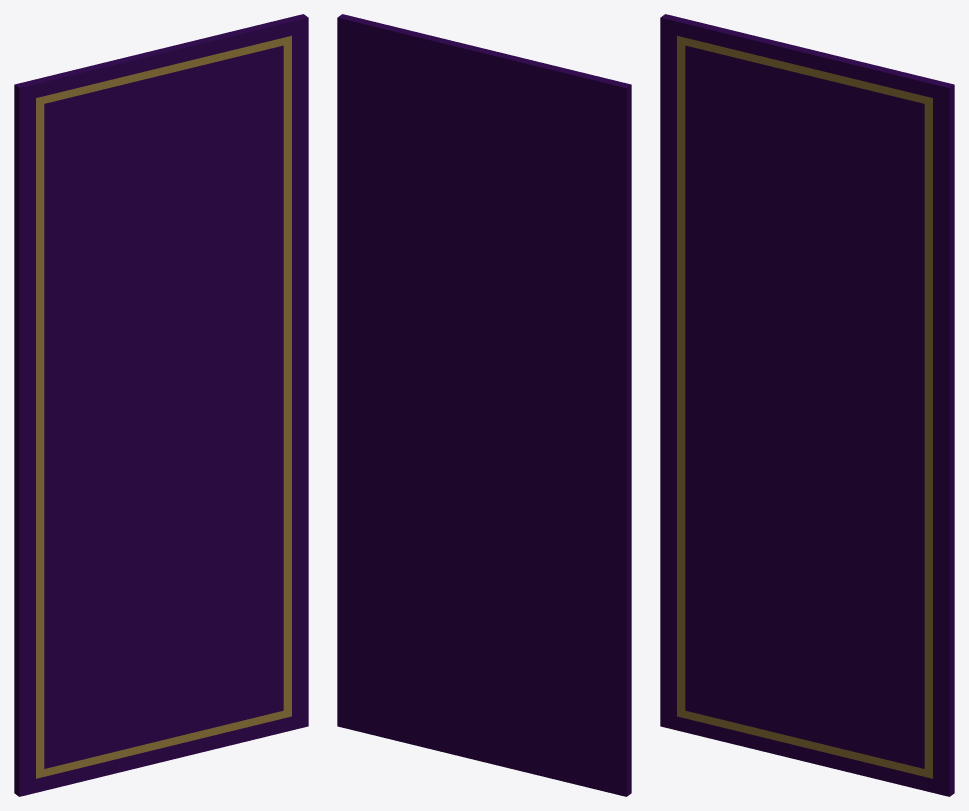
Rendered from tapestry.fbx.
The picture shows the model from 3 angles, left to right: view 1: azimuth 30°, elevation 25°; view 2: azimuth 150°, elevation 25°; view 3: azimuth 330°, elevation 25°; orthographic projection.
Visible parts, largest first — view 1: Cube; view 2: Cube; view 3: Cube.
Part boxes in pixels (x1=…): Cube: x1=14, y1=14, x2=308, y2=796; Cube: x1=337, y1=14, x2=631, y2=796; Cube: x1=660, y1=14, x2=954, y2=796.
Size of the model in its own units: 273 by 8.08 by 640.
